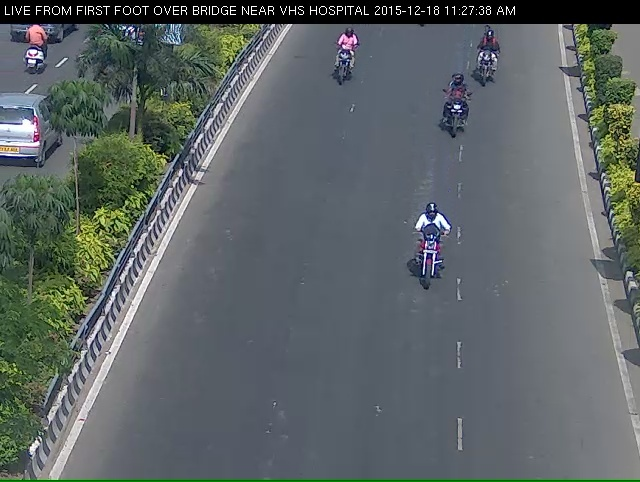Person: (409, 221, 464, 323), (318, 34, 362, 110), (435, 82, 473, 149), (469, 32, 505, 89)
